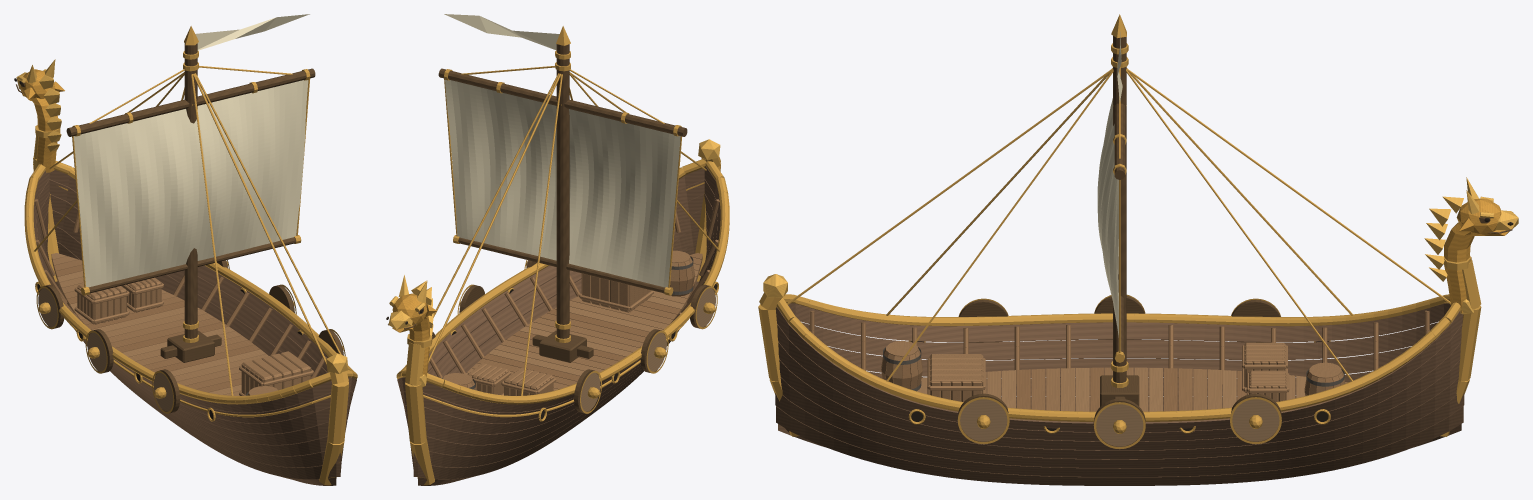
File: SlavicShip_Unity.fbx
3 views of the same model, side by side, from view 1: azimuth 30°, elevation 25°; view 2: azimuth 150°, elevation 25°; view 3: azimuth 270°, elevation 25° (orthographic). The views are drawn at different scales.
Visible parts, largest first — view 1: Ship_HullDeck, Ship_Sail, Ship_Mast, Ship_Details, Ship_Cargo, Ship_Rigging, Ship_Pennant, Ship_Shield_Port_02, Ship_Shield_Port_03, Ship_Shield_Port_01; view 2: Ship_HullDeck, Ship_Sail, Ship_Mast, Ship_Details, Ship_Cargo, Ship_Rigging, Ship_Pennant, Ship_Shield_Port_02, Ship_Shield_Port_01, Ship_Shield_Port_03; view 3: Ship_HullDeck, Ship_Details, Ship_Cargo, Ship_Rigging, Ship_Mast, Ship_Sail, Ship_Shield_Starboard_03, Ship_Shield_Starboard_02, Ship_Shield_Starboard_01.
Boxes of the visible parts, x1,y1,x2,y2 form: Ship_HullDeck: [14, 78, 357, 485]; Ship_Sail: [73, 80, 308, 287]; Ship_Mast: [66, 26, 315, 362]; Ship_Details: [16, 59, 348, 421]; Ship_Cargo: [74, 277, 313, 395]; Ship_Rigging: [34, 65, 341, 395]; Ship_Pennant: [195, 14, 309, 50]; Ship_Shield_Port_02: [87, 332, 106, 371]; Ship_Shield_Port_03: [38, 288, 57, 326]; Ship_Shield_Port_01: [154, 372, 173, 411]; Ship_HullDeck: [386, 157, 729, 485]; Ship_Sail: [445, 79, 680, 287]; Ship_Mast: [438, 26, 687, 362]; Ship_Details: [388, 139, 720, 421]; Ship_Cargo: [442, 250, 694, 395]; Ship_Rigging: [406, 66, 720, 395]; Ship_Pennant: [444, 14, 559, 50]; Ship_Shield_Port_02: [647, 332, 666, 371]; Ship_Shield_Port_01: [696, 288, 715, 327]; Ship_Shield_Port_03: [581, 372, 600, 411]; Ship_HullDeck: [758, 222, 1513, 485]; Ship_Details: [763, 177, 1518, 449]; Ship_Cargo: [881, 341, 1345, 401]; Ship_Rigging: [787, 67, 1450, 381]; Ship_Mast: [1100, 14, 1139, 406]; Ship_Sail: [1097, 98, 1118, 337]; Ship_Shield_Starboard_03: [1232, 399, 1279, 441]; Ship_Shield_Starboard_02: [1096, 404, 1143, 446]; Ship_Shield_Starboard_01: [960, 399, 1007, 441].
Bounding box in the file's own units: 549 × 845 × 1257.
Materials: 9 (9 with a texture image).
